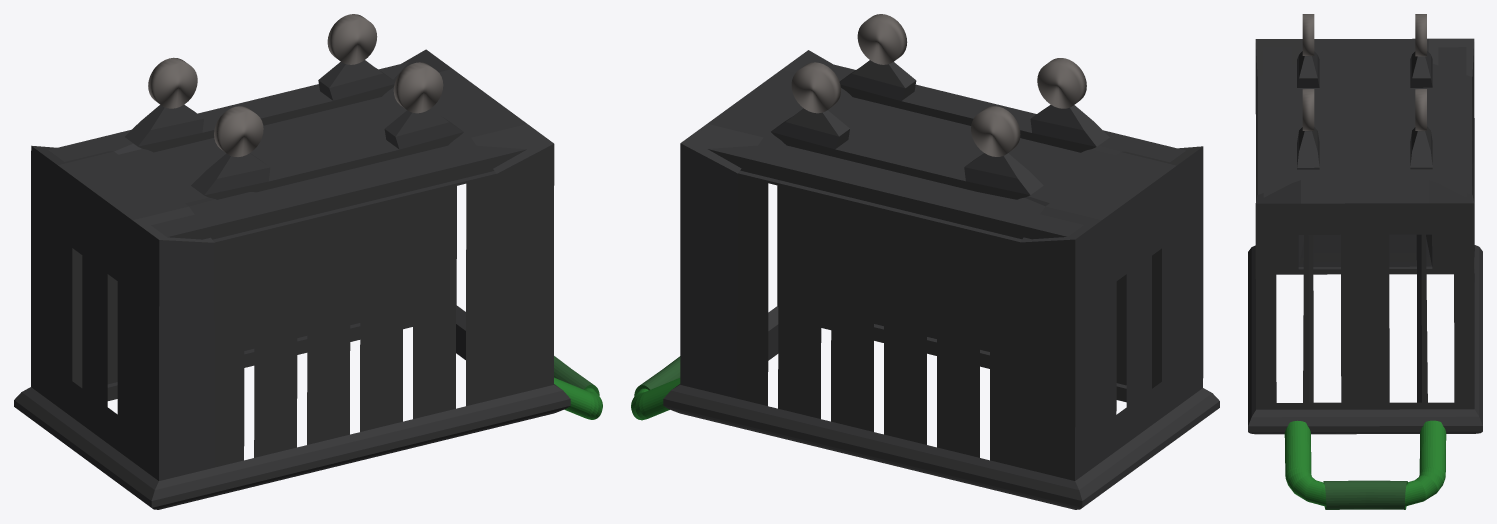
Rendered from carritoMercadona.fbx.
The picture shows the model from 3 angles, left to right: view 1: azimuth 30°, elevation 25°; view 2: azimuth 150°, elevation 25°; view 3: azimuth 270°, elevation 25°; orthographic projection. The views are drawn at different scales.
Visible parts, largest first — view 1: Cube; view 2: Cube; view 3: Cube.
Part boxes in pixels (box(x1,y1,x2,y2)): Cube: box(14, 14, 602, 509); Cube: box(631, 14, 1219, 509); Cube: box(1248, 14, 1482, 509).
Bounding box in the file's own units: 118 × 91.85 × 56.93.
Materials: 1 (1 with a texture image).
